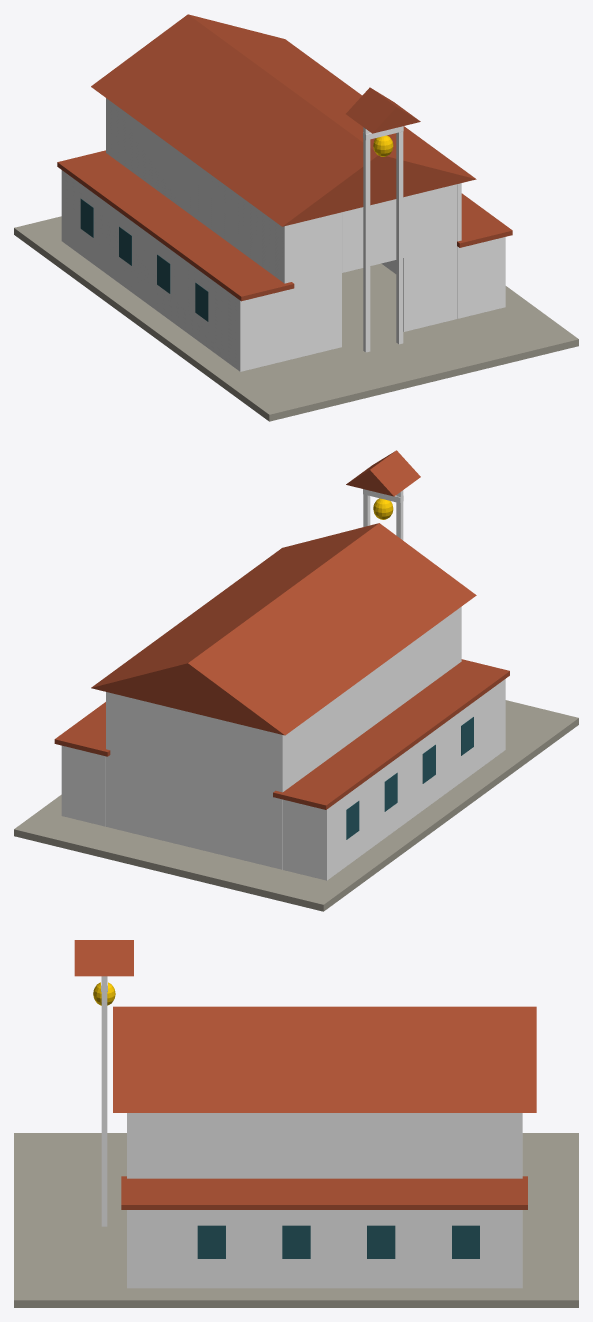
File: source-edit.glb
The picture shows the model from 3 angles, top to bottom: view 1: azimuth 30°, elevation 25°; view 2: azimuth 150°, elevation 25°; view 3: azimuth 270°, elevation 25°; orthographic projection. The views are drawn at different scales.
Visible parts, largest first — view 1: Nave_Roof, Foundation, Side_Aisle, Nave_Wall, Aisle_Roof.001, Entry_Wing.001, Entry_Wing, Side_Aisle.001, Entry_Header, Bell_Tower_Roof, Bell_Tower_Post.001, Bell_Tower_Post (+2 smaller); view 2: Nave_Roof, Rear_Wall, Foundation, Side_Aisle, Nave_Wall, Aisle_Roof.001, Side_Aisle.001, Bell_Tower_Roof, Aisle_Roof, Nave_Wall.001; view 3: Nave_Roof, Foundation, Side_Aisle.001, Nave_Wall.001, Aisle_Roof, Bell_Tower_Roof, Bell_Tower_Post, Aisle_Window.006, Aisle_Window.005, Aisle_Window.007, Aisle_Window.
Boxes of the visible parts, left/top/right/bottom form: Nave_Roof: left=91, top=14, right=476, bottom=226; Foundation: left=14, top=216, right=578, bottom=421; Side_Aisle: left=61, top=170, right=284, bottom=371; Nave_Wall: left=106, top=98, right=288, bottom=360; Aisle_Roof.001: left=57, top=150, right=294, bottom=301; Entry_Wing.001: left=403, top=184, right=456, bottom=331; Entry_Wing: left=289, top=212, right=341, bottom=359; Side_Aisle.001: left=461, top=237, right=505, bottom=317; Entry_Header: left=342, top=197, right=403, bottom=272; Bell_Tower_Roof: left=346, top=87, right=420, bottom=133; Bell_Tower_Post.001: left=363, top=127, right=370, bottom=352; Bell_Tower_Post: left=396, top=131, right=403, bottom=344; Nave_Roof: left=91, top=523, right=476, bottom=735; Rear_Wall: left=110, top=693, right=278, bottom=868; Foundation: left=14, top=700, right=578, bottom=911; Side_Aisle: left=283, top=679, right=505, bottom=880; Nave_Wall: left=278, top=607, right=461, bottom=869; Aisle_Roof.001: left=273, top=659, right=509, bottom=809; Side_Aisle.001: left=61, top=745, right=105, bottom=826; Bell_Tower_Roof: left=346, top=450, right=420, bottom=496; Aisle_Roof: left=54, top=702, right=110, bottom=756; Nave_Wall.001: left=106, top=692, right=110, bottom=827; Nave_Roof: left=113, top=1006, right=536, bottom=1112; Foundation: left=14, top=1133, right=578, bottom=1307; Side_Aisle.001: left=127, top=1210, right=522, bottom=1288; Nave_Wall.001: left=127, top=1113, right=522, bottom=1178; Aisle_Roof: left=121, top=1176, right=527, bottom=1209; Bell_Tower_Roof: left=74, top=940, right=133, bottom=976; Bell_Tower_Post: left=101, top=976, right=107, bottom=1226; Aisle_Window.006: left=282, top=1225, right=310, bottom=1258; Aisle_Window.005: left=197, top=1225, right=225, bottom=1258; Aisle_Window.007: left=367, top=1225, right=395, bottom=1258; Aisle_Window: left=452, top=1225, right=479, bottom=1258.
Bounding box in the file's own units: 14 × 11.1 × 20.
